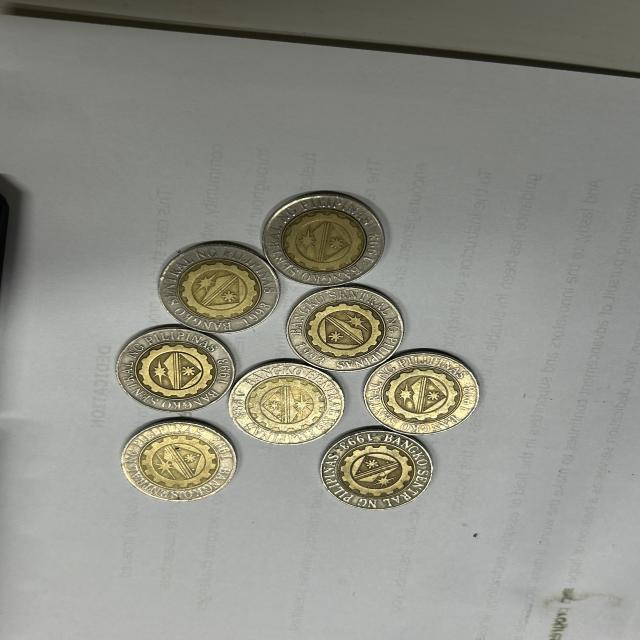10_Old_Back: (158, 248, 274, 340), (369, 348, 480, 433), (268, 198, 384, 278), (116, 332, 232, 407), (294, 287, 398, 366), (326, 432, 434, 505), (235, 364, 334, 441), (123, 426, 233, 495)
